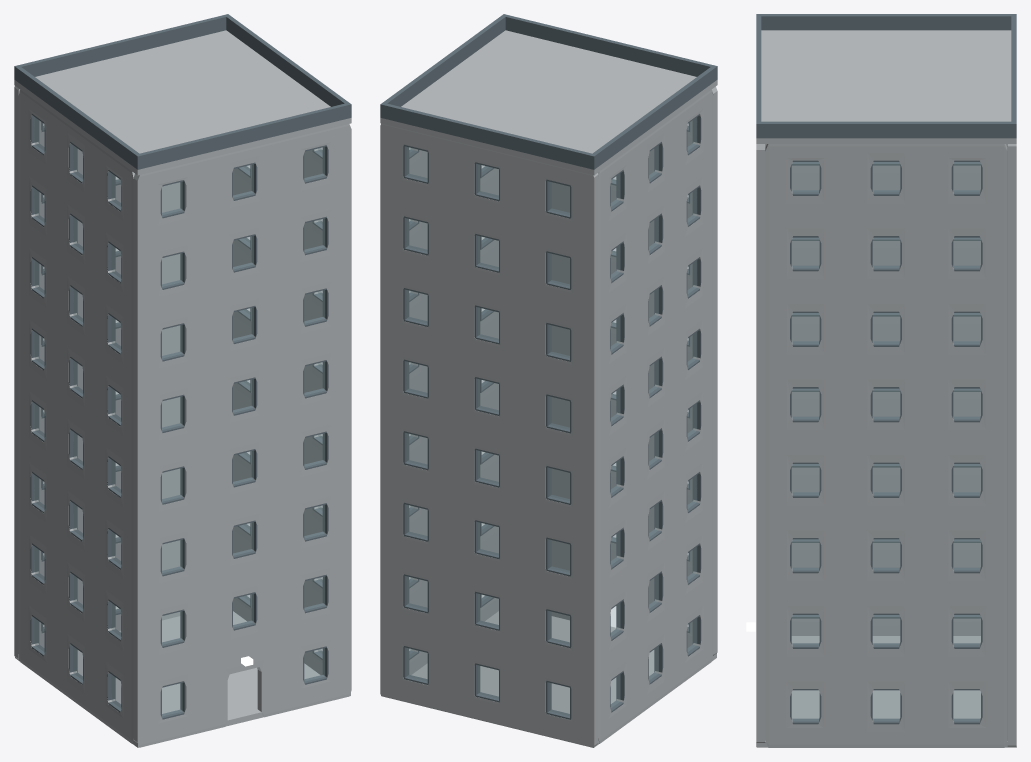
The model's file is block_8_lod0.glb.
3 renders of one model, left to right at view 1: azimuth 30°, elevation 25°; view 2: azimuth 150°, elevation 25°; view 3: azimuth 270°, elevation 25°, orthographic. The views are drawn at different scales.
Visible parts, largest first — view 1: Wall_0 baked, Wall_3 baked, Ceiling baked, Wall_1 baked, Wall_2 baked, Parapet baked, Parapet.002 baked, Floor baked, Parapet.001 baked, Parapet.003 baked, Glazing.005 baked, Glazing.008 baked (+21 smaller); view 2: Wall_1 baked, Wall_3 baked, Ceiling baked, Wall_0 baked, Wall_2 baked, Parapet.002 baked, Parapet baked, Parapet.001 baked, Parapet.003 baked, Floor baked, Glazing.024 baked, Glazing.030 baked (+22 smaller); view 3: Wall_2 baked, Ceiling baked, Wall_3 baked, Wall_1 baked, Wall_0 baked, Parapet.003 baked, Parapet.001 baked, Floor baked, Glazing.058 baked, Glazing.064 baked, Glazing.070 baked, Glazing.047 baked (+22 smaller).
Part boxes in pixels (box(x1,y1,x2,y2)): Wall_0 baked: box(133, 124, 351, 747); Wall_3 baked: box(18, 89, 134, 743); Ceiling baked: box(14, 30, 351, 175); Wall_1 baked: box(14, 86, 180, 659); Wall_2 baked: box(233, 148, 322, 674); Parapet baked: box(135, 102, 351, 169); Parapet.002 baked: box(14, 14, 230, 80); Floor baked: box(15, 611, 350, 747); Parapet.001 baked: box(17, 67, 138, 167); Parapet.003 baked: box(226, 16, 348, 106); Glazing.005 baked: box(162, 540, 182, 572); Glazing.008 baked: box(162, 468, 182, 501); Wall_1 baked: box(380, 123, 598, 747); Wall_3 baked: box(598, 89, 713, 743); Ceiling baked: box(380, 30, 717, 175); Wall_0 baked: box(551, 86, 717, 655); Wall_2 baked: box(409, 148, 498, 674); Parapet.002 baked: box(380, 102, 596, 169); Parapet baked: box(501, 14, 717, 80); Parapet.001 baked: box(593, 67, 714, 167); Parapet.003 baked: box(383, 16, 505, 106); Floor baked: box(412, 611, 716, 747); Glazing.024 baked: box(478, 665, 498, 698); Glazing.030 baked: box(478, 522, 498, 555); Wall_2 baked: box(765, 144, 1007, 747); Ceiling baked: box(756, 30, 1016, 143); Wall_3 baked: box(766, 144, 1006, 635); Wall_1 baked: box(1007, 144, 1016, 747); Wall_0 baked: box(756, 144, 765, 746); Parapet.003 baked: box(761, 121, 1011, 138); Parapet.001 baked: box(761, 14, 1011, 30); Floor baked: box(756, 636, 1015, 747); Glazing.058 baked: box(953, 464, 980, 494); Glazing.064 baked: box(953, 313, 980, 343); Glazing.070 baked: box(953, 162, 980, 192); Glazing.047 baked: box(792, 690, 819, 720).
Bounding box in the file's own units: 10 × 26.45 × 10.38.
